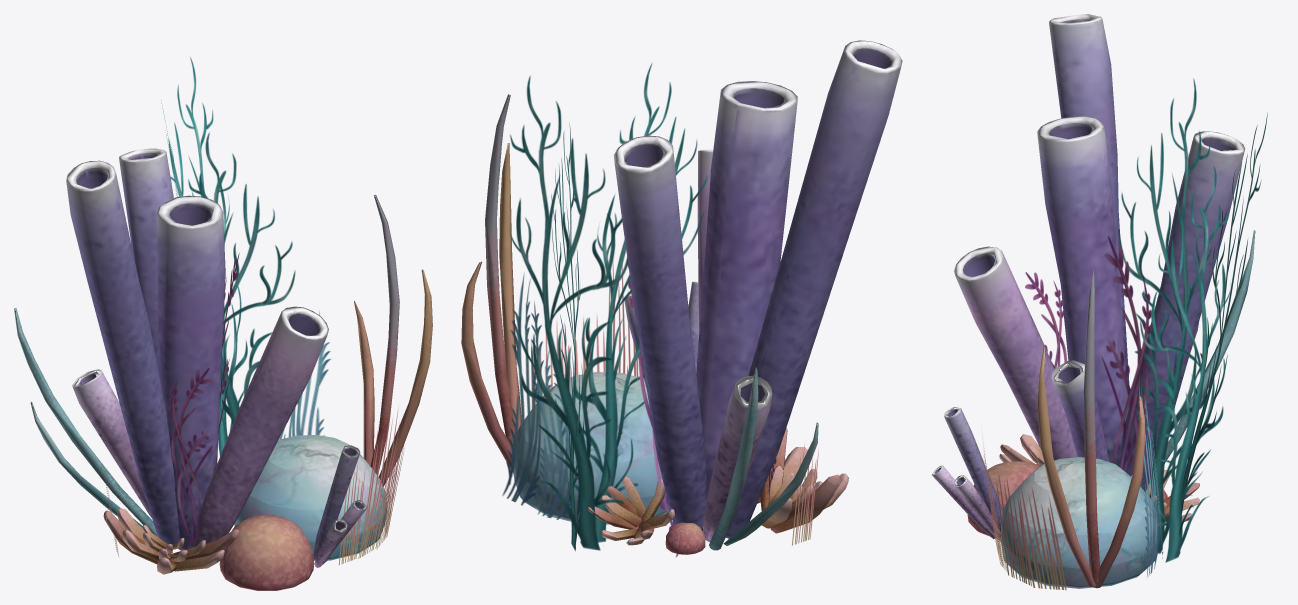
Rendered from coral-branch.glb.
3 renders of one model, left to right at view 1: azimuth 30°, elevation 25°; view 2: azimuth 150°, elevation 25°; view 3: azimuth 270°, elevation 25°, orthographic. The views are drawn at different scales.
Parts seen in each view (by area): view 1: polySurface267_lambert3_0, polySurface223_planes_0; view 2: polySurface267_lambert3_0, polySurface223_planes_0; view 3: polySurface267_lambert3_0, polySurface223_planes_0.
Part boxes in pixels (x1,y1,x2,y2): polySurface267_lambert3_0: (14, 148, 432, 590); polySurface223_planes_0: (104, 57, 405, 565); polySurface267_lambert3_0: (461, 40, 902, 554); polySurface223_planes_0: (502, 63, 818, 556); polySurface267_lambert3_0: (931, 14, 1255, 588); polySurface223_planes_0: (983, 78, 1267, 590).
Size of the model in its own units: 3.09 by 4.06 by 2.64.
2 materials, 2 textured.
